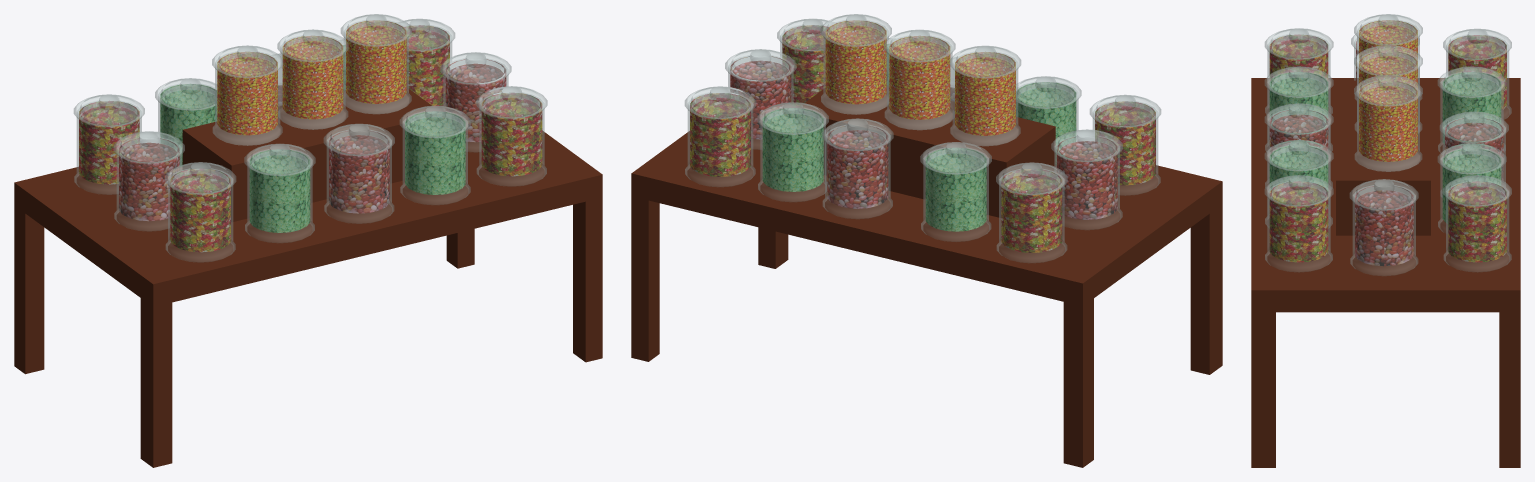
File: table_display.fbx
The picture shows the model from 3 angles, left to right: view 1: azimuth 30°, elevation 25°; view 2: azimuth 150°, elevation 25°; view 3: azimuth 270°, elevation 25°; orthographic projection. The views are drawn at different scales.
Parts seen in each view (by area): view 1: tabledisplay, pasted__jar27, pasted__jar31, pasted__jar21, pasted__jar13, pasted__jar19, pasted__jar11, pasted__jar29, pasted__jar5, pasted__jar3, pasted__jar17, pasted__jar15 (+15 smaller); view 2: tabledisplay, pasted__jar31, pasted__jar15, pasted__jar27, pasted__jar23, pasted__jar17, pasted__jar25, pasted__jar29, pasted__jar9, pasted__jar3, pasted__jar11, pasted__jar7 (+15 smaller); view 3: tabledisplay, pasted__jar13, pasted__jar15, pasted__jar29, pasted__jar7, pasted__jar23, pasted__jar21, pasted__jar17, pasted__jar11, pasted__jar19, pasted__jar25, pasted__jar27 (+17 smaller).
Boxes of the visible parts, left/top/right/bottom form: tabledisplay: left=14, top=77, right=602, bottom=467; pasted__jar27: left=278, top=36, right=348, bottom=129; pasted__jar31: left=212, top=51, right=282, bottom=145; pasted__jar21: left=245, top=149, right=314, bottom=242; pasted__jar13: left=476, top=93, right=546, bottom=186; pasted__jar19: left=400, top=111, right=470, bottom=204; pasted__jar11: left=165, top=168, right=235, bottom=262; pasted__jar29: left=343, top=20, right=411, bottom=114; pasted__jar5: left=324, top=130, right=394, bottom=223; pasted__jar3: left=114, top=137, right=181, bottom=231; pasted__jar17: left=74, top=101, right=141, bottom=194; pasted__jar15: left=404, top=25, right=452, bottom=106; tabledisplay: left=631, top=77, right=1222, bottom=467; pasted__jar31: left=950, top=52, right=1020, bottom=146; pasted__jar15: left=685, top=93, right=755, bottom=186; pasted__jar27: left=884, top=36, right=954, bottom=130; pasted__jar23: left=921, top=147, right=991, bottom=241; pasted__jar17: left=996, top=169, right=1067, bottom=262; pasted__jar25: left=758, top=108, right=826, bottom=201; pasted__jar29: left=821, top=20, right=888, bottom=114; pasted__jar9: left=822, top=125, right=892, bottom=218; pasted__jar3: left=1054, top=136, right=1122, bottom=229; pasted__jar11: left=1092, top=101, right=1160, bottom=195; pasted__jar7: left=728, top=55, right=793, bottom=149; tabledisplay: left=1251, top=78, right=1520, bottom=467; pasted__jar13: left=1265, top=181, right=1332, bottom=272; pasted__jar15: left=1443, top=181, right=1511, bottom=272; pasted__jar29: left=1354, top=81, right=1422, bottom=171; pasted__jar7: left=1350, top=185, right=1418, bottom=275; pasted__jar23: left=1438, top=72, right=1505, bottom=154; pasted__jar21: left=1265, top=72, right=1332, bottom=151; pasted__jar17: left=1446, top=35, right=1511, bottom=119; pasted__jar11: left=1265, top=34, right=1332, bottom=114; pasted__jar19: left=1265, top=145, right=1332, bottom=227; pasted__jar25: left=1438, top=148, right=1503, bottom=232; pasted__jar27: left=1354, top=51, right=1422, bottom=133.
Bounding box in the file's own units: 5.11 × 3.54 × 2.74.
Materials: 6 (4 with a texture image).
